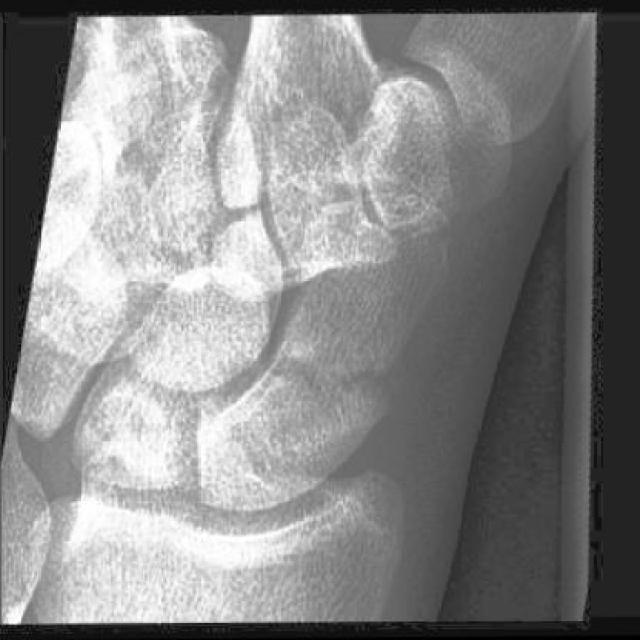Fracture: (256, 336, 413, 417)
